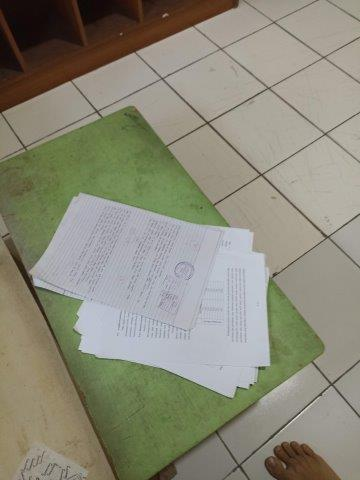kertas: (29, 192, 271, 397)
